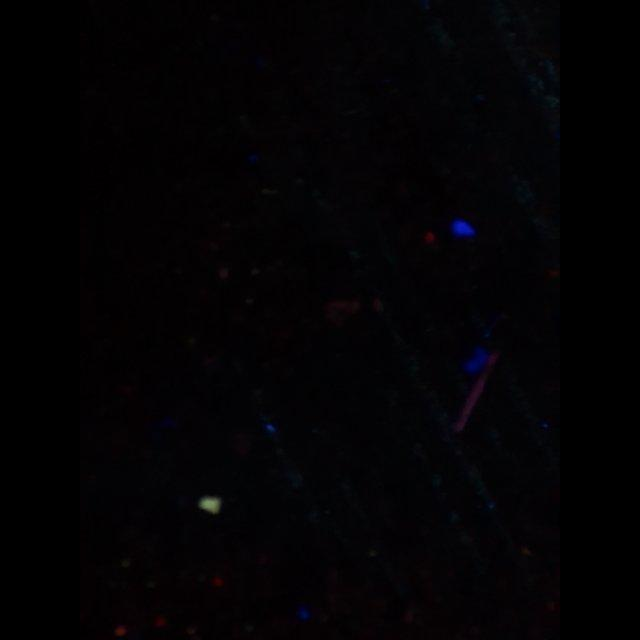microbeads: (198, 496, 222, 512)
